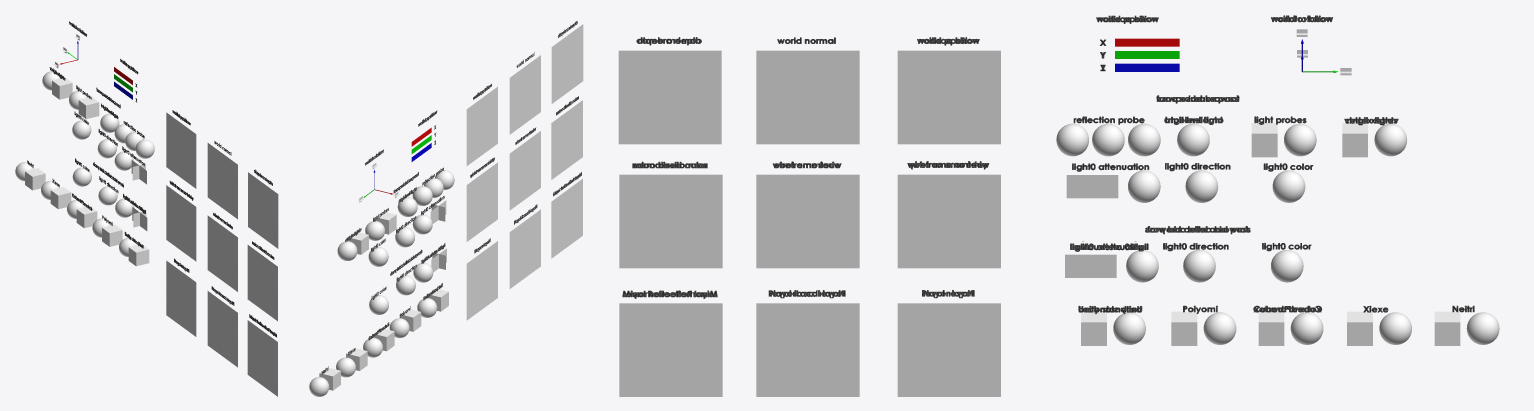
The model's file is Shader Debug.fbx.
The picture shows the model from 3 angles, left to right: view 1: azimuth 30°, elevation 25°; view 2: azimuth 150°, elevation 25°; view 3: azimuth 270°, elevation 25°; orthographic projection. The views are drawn at different scales.
Visible parts, largest first — view 1: Labels and Shaders; view 2: Labels and Shaders; view 3: Labels and Shaders.
Part boxes in pixels (<box>): Labels and Shaders: <box>15,21,278,396</box>; Labels and Shaders: <box>309,21,583,396</box>; Labels and Shaders: <box>618,15,1499,396</box>.
Bounding box in the file's own units: 14.59 × 98.62 × 212.
29 materials, 1 textured.
